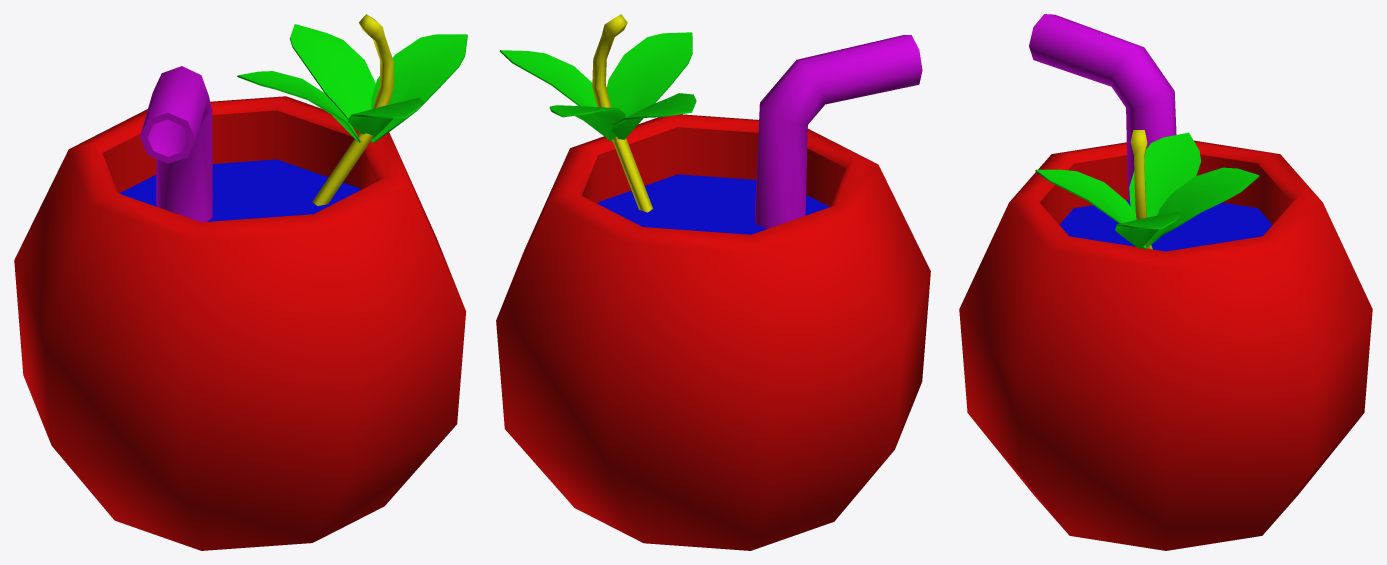
Rendered from Blender.fbx.
3 views of the same model, side by side, from view 1: azimuth 30°, elevation 25°; view 2: azimuth 150°, elevation 25°; view 3: azimuth 270°, elevation 25° (orthographic). The views are drawn at different scales.
Visible parts, largest first — view 1: Alcohol 3; view 2: Alcohol 3; view 3: Alcohol 3.
Part boxes in pixels (box(x1,y1,x2,y2)): Alcohol 3: box(14, 14, 467, 550); Alcohol 3: box(496, 14, 930, 550); Alcohol 3: box(959, 14, 1372, 550).
Bounding box in the file's own units: 0.733 × 0.7648 × 0.6836.
